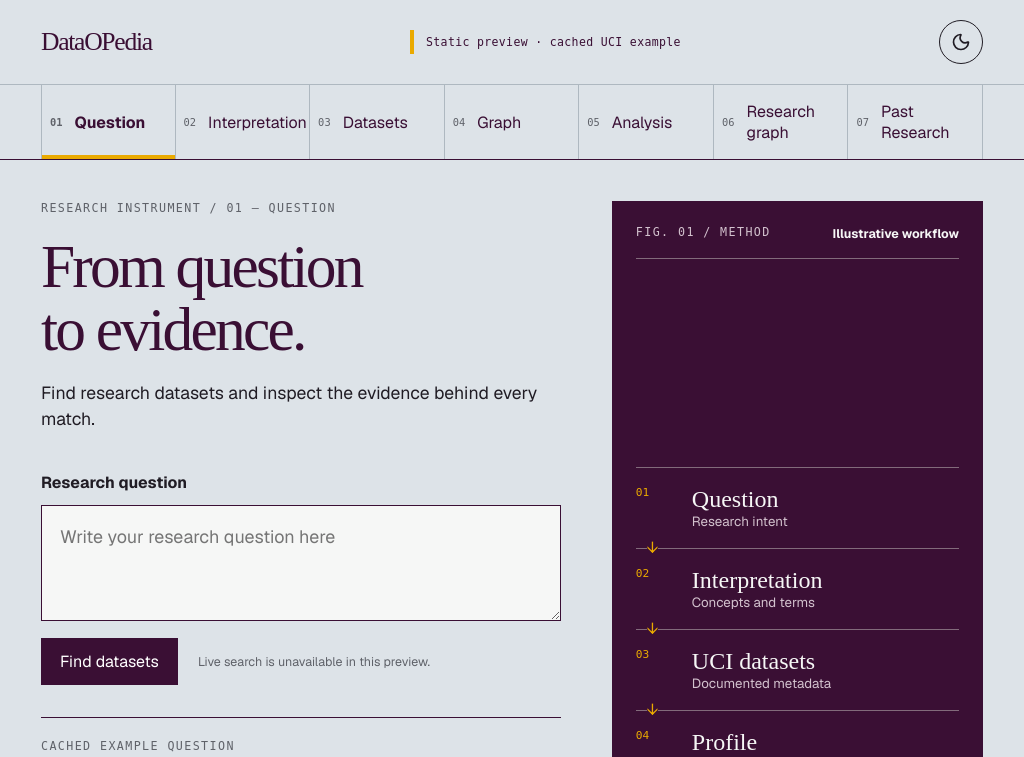
Scenario: shows five local stages and never requests data
Expected: the text "DataOPedia" is shown, [41,27,152,57]
Expected: the text "Static preview · cached UCI example" is shown, [410,30,681,54]
Click the button "04 Graph".
click(512, 122)  # box [445,85,579,159]
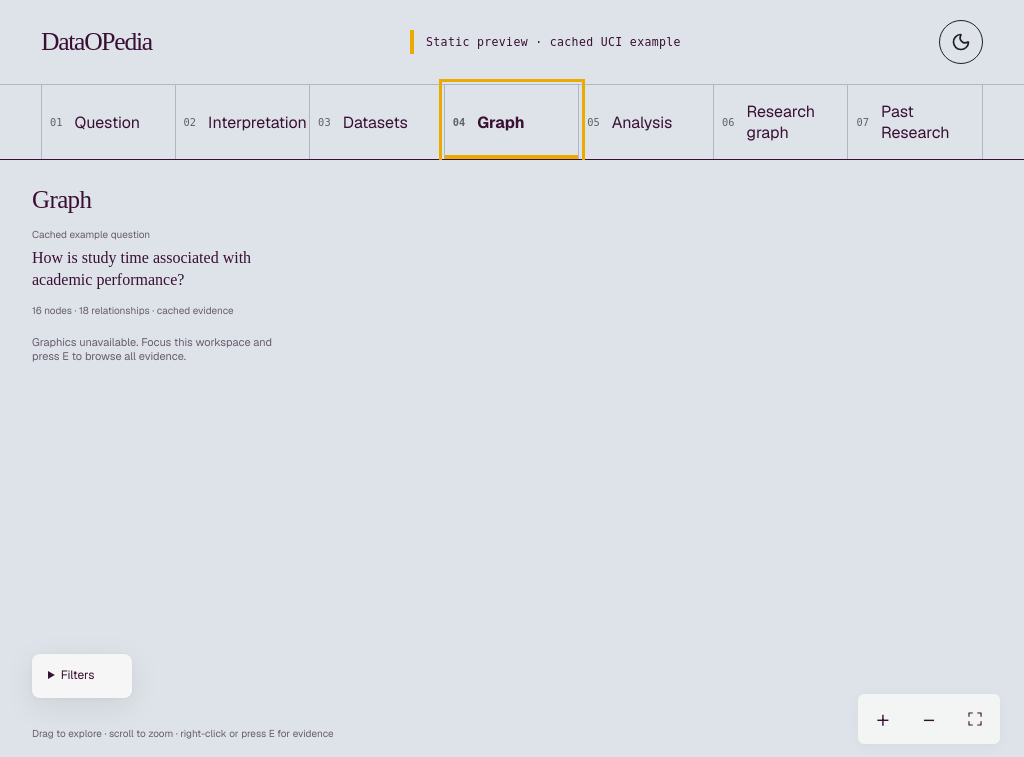
Expected: the heading "Graph" is shown, [32,186,91,213]
